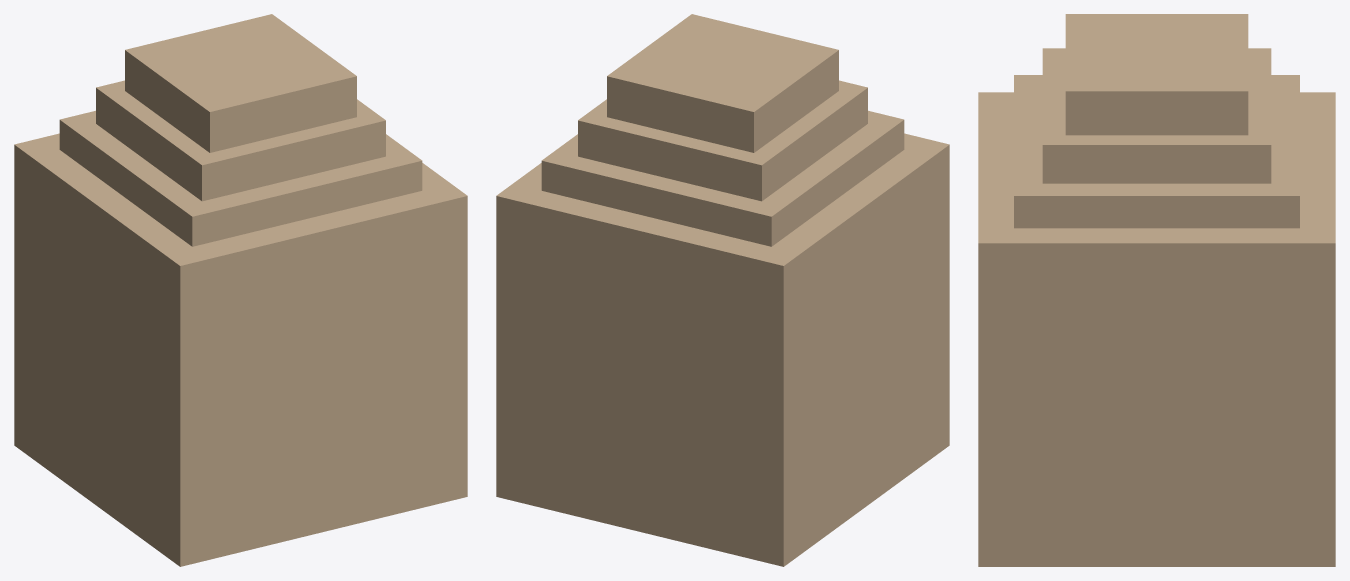
The model's file is ziggurat_simple.glb.
3 renders of one model, left to right at view 1: azimuth 30°, elevation 25°; view 2: azimuth 150°, elevation 25°; view 3: azimuth 270°, elevation 25°, orthographic. The views are drawn at different scales.
Visible parts, largest first — view 1: Ziggurat; view 2: Ziggurat; view 3: Ziggurat.
Part boxes in pixels (box(x1,y1,x2,y2)): Ziggurat: box(14, 14, 467, 566); Ziggurat: box(496, 14, 949, 566); Ziggurat: box(978, 14, 1335, 566).
Size of the model in its own units: 10 by 13.56 by 10.
